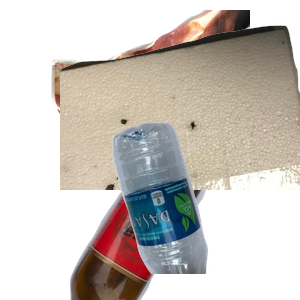glass: (67, 120, 282, 300)
paper: (49, 10, 289, 190)
plastic: (110, 120, 300, 300)
trash: (60, 23, 300, 203)
